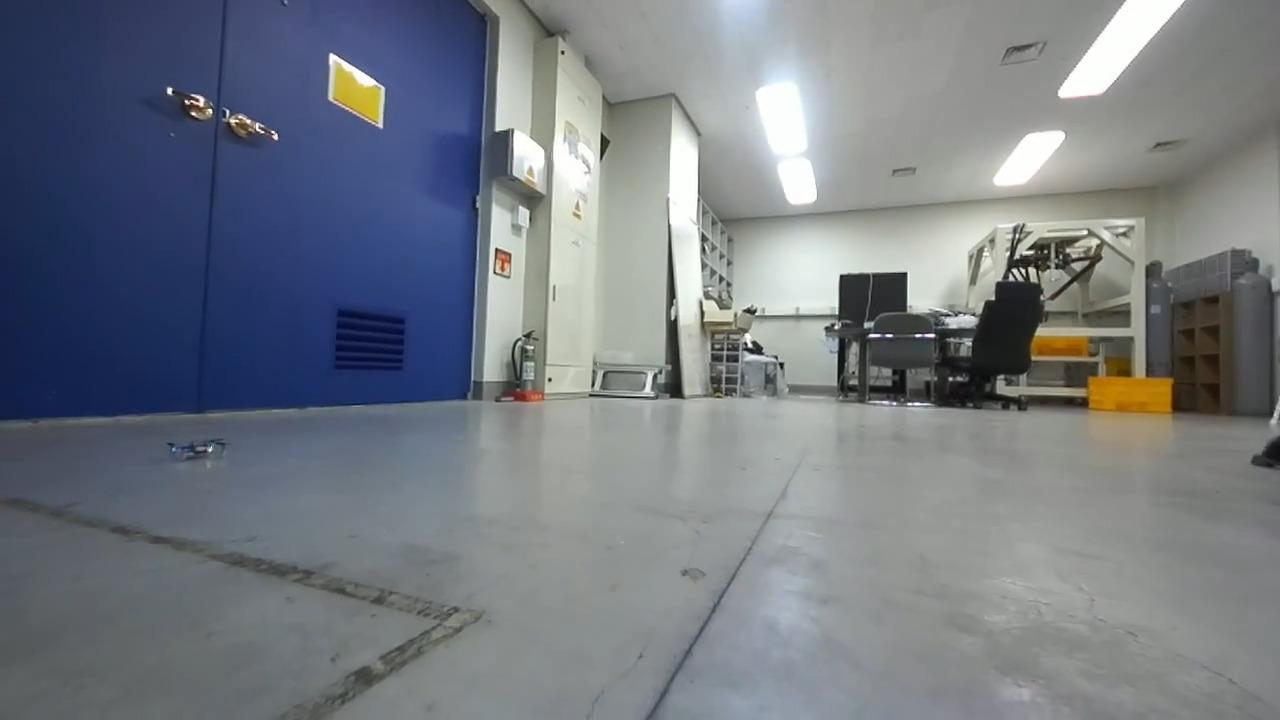crazyflie: (163, 431, 231, 465)
